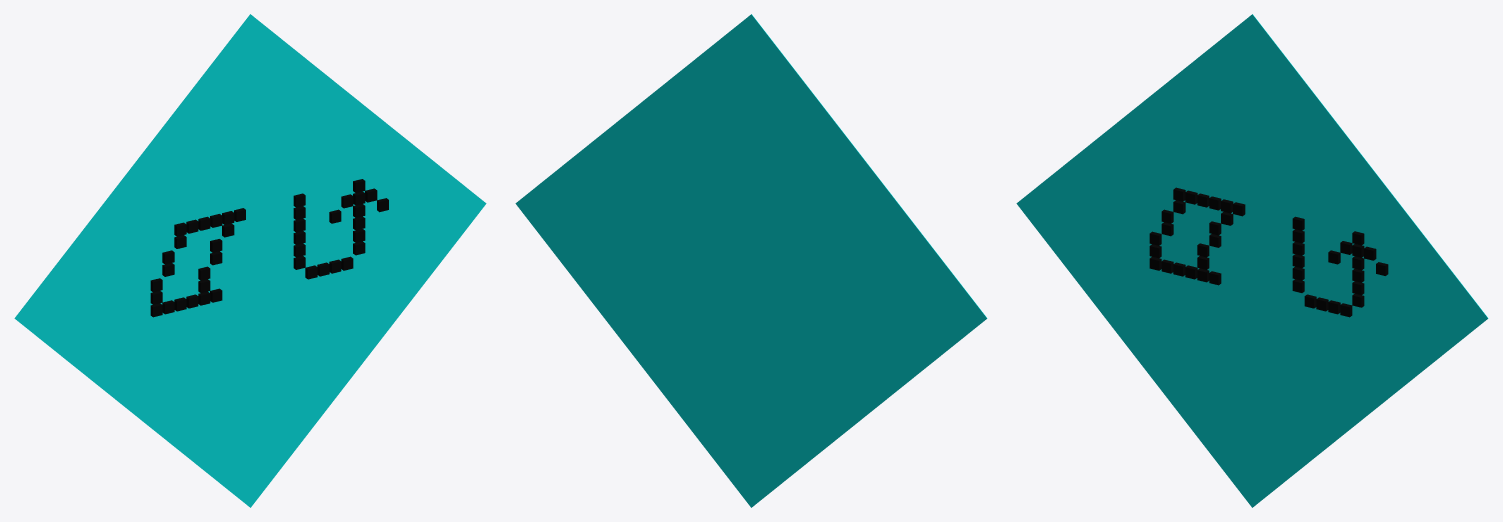
The model's file is ClearAreaStatus.fbx.
3 renders of one model, left to right at view 1: azimuth 30°, elevation 25°; view 2: azimuth 150°, elevation 25°; view 3: azimuth 330°, elevation 25°, orthographic.
Parts seen in each view (by area): view 1: Cube.021; view 2: Cube.021; view 3: Cube.021.
Part boxes in pixels (x1,y1,x2,y2): Cube.021: (14,14,486,507); Cube.021: (515,14,987,507); Cube.021: (1016,14,1488,507).
Bounding box in the file's own units: 198 × 198 × 2.1.
